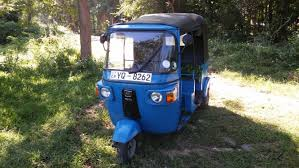tuk tuk: (96, 12, 212, 161)
